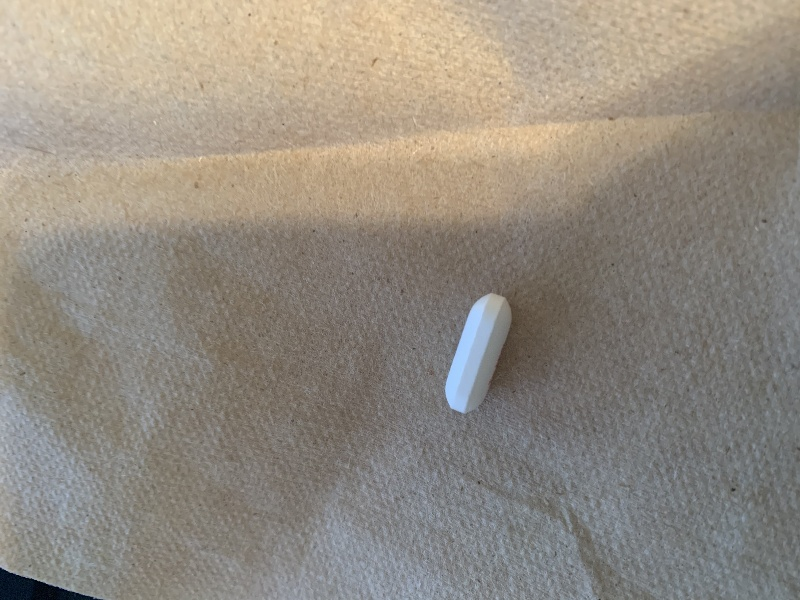Tylenol: (426, 294, 524, 417)
